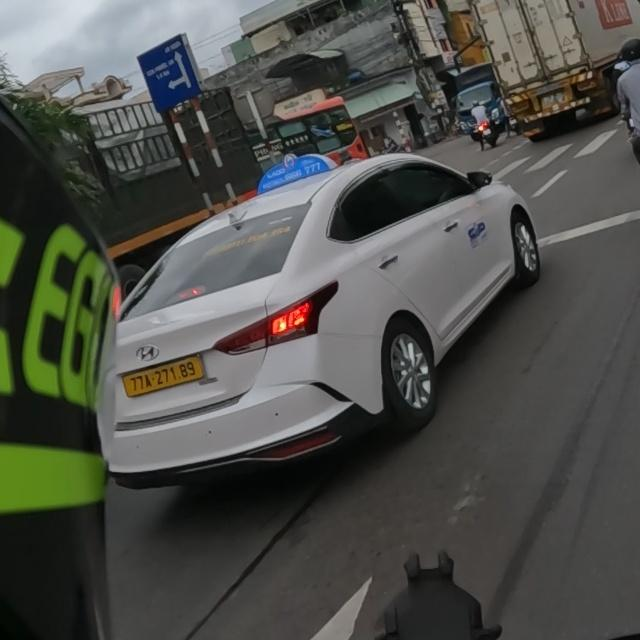license-plate: (121, 356, 207, 398)
